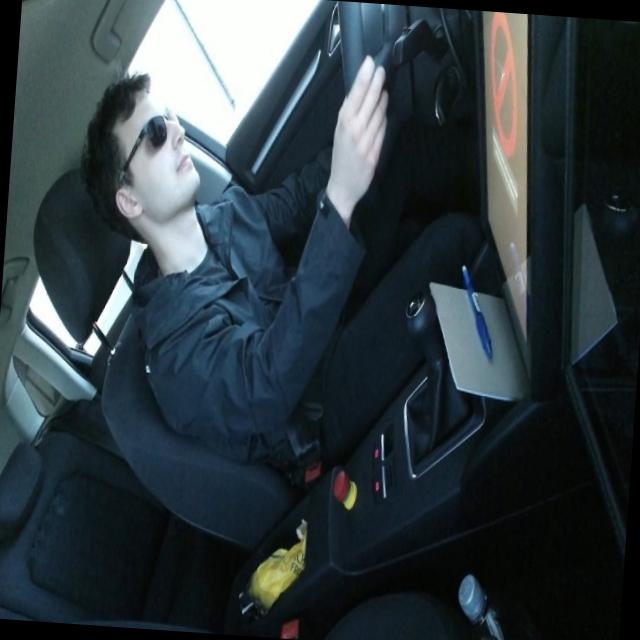pen: (454, 261, 499, 360)
